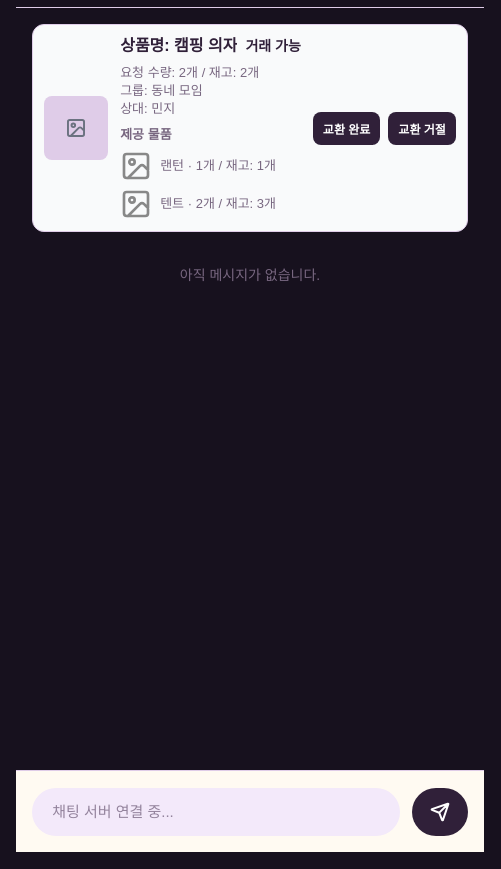
Test: 상세 API의 물품·수량과 목록의 그룹·상대방을 표시하고 최신 요청 ID로 완료한다
This screenshot has width=501, height=869.
Expected: the text "상품명: 캠핑 의자" is shown, 120,36 -> 238,56
Expected: the text "그룹: 동네 모임" is shown, 120,83 -> 203,98
What coordinates should you click on to do the following:
click the button "교환 완료"
I would click on:
 (347, 128)
Its box is 313,112 -> 380,144.
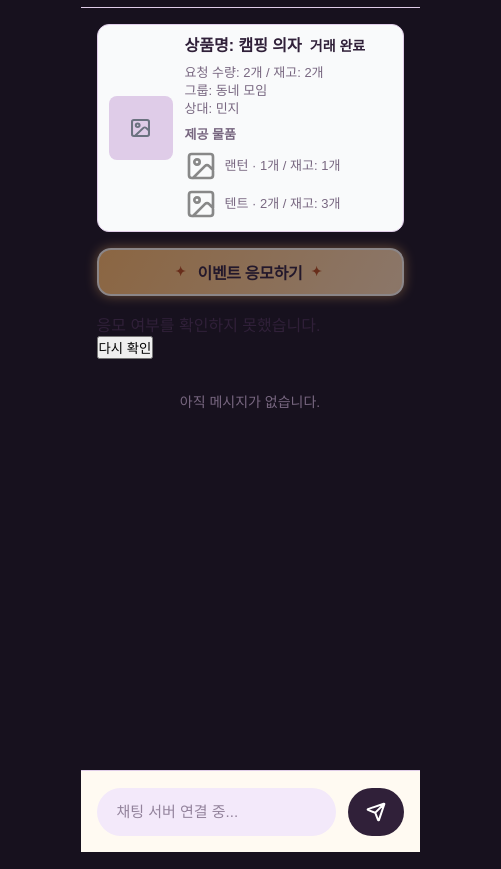
Now the text "거래 완료" is shown, box 310,37 -> 365,55
Now the button "교환 완료" is gone
